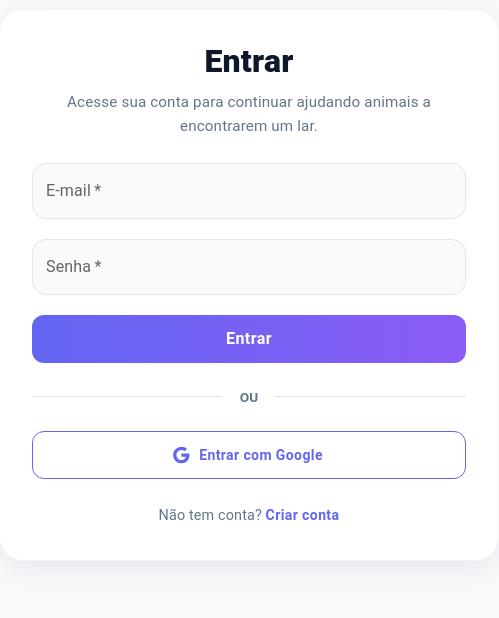
Test: Login (page) › quando authApi.login falha, mostra um alerta (ou lida com erro)
This screenshot has width=499, height=618.
Step 1. Type "bad@example.com" into the field labelled "E-mail *" → coordinates (249, 191), box left=32, top=163, right=466, bottom=219
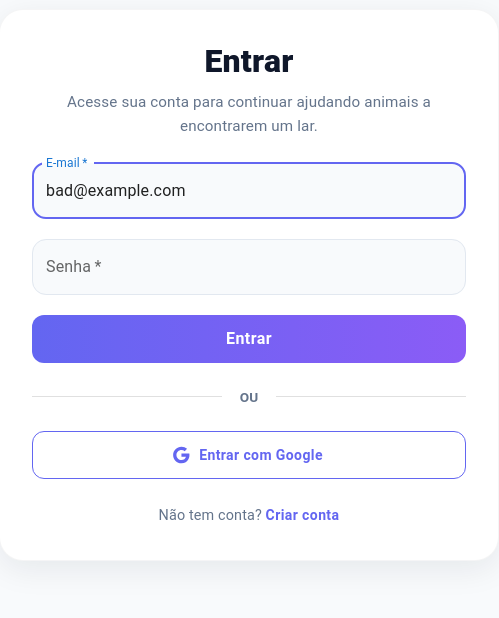
Step 2. Type "wrong" into the password field labelled "Senha *" → coordinates (249, 267), box left=32, top=239, right=466, bottom=295
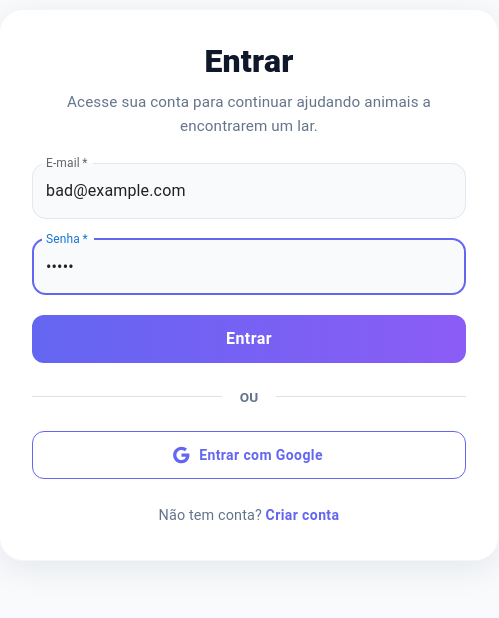
Step 3. Click the button "Entrar" → coordinates (249, 339), box left=32, top=315, right=466, bottom=363
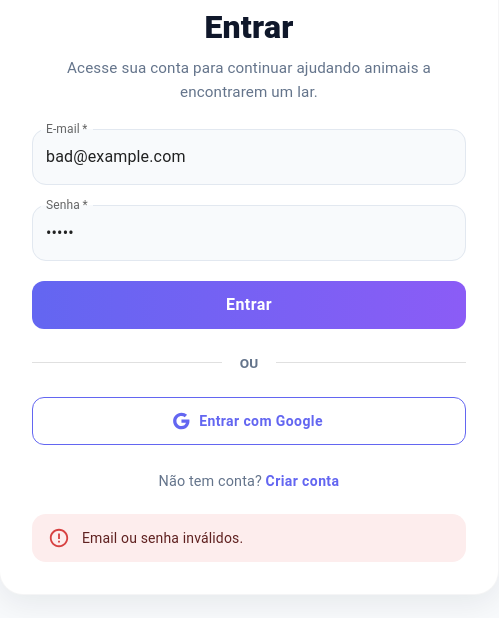
Expected: the text "Email ou senha inválidos." is shown, left=82, top=530, right=243, bottom=546
